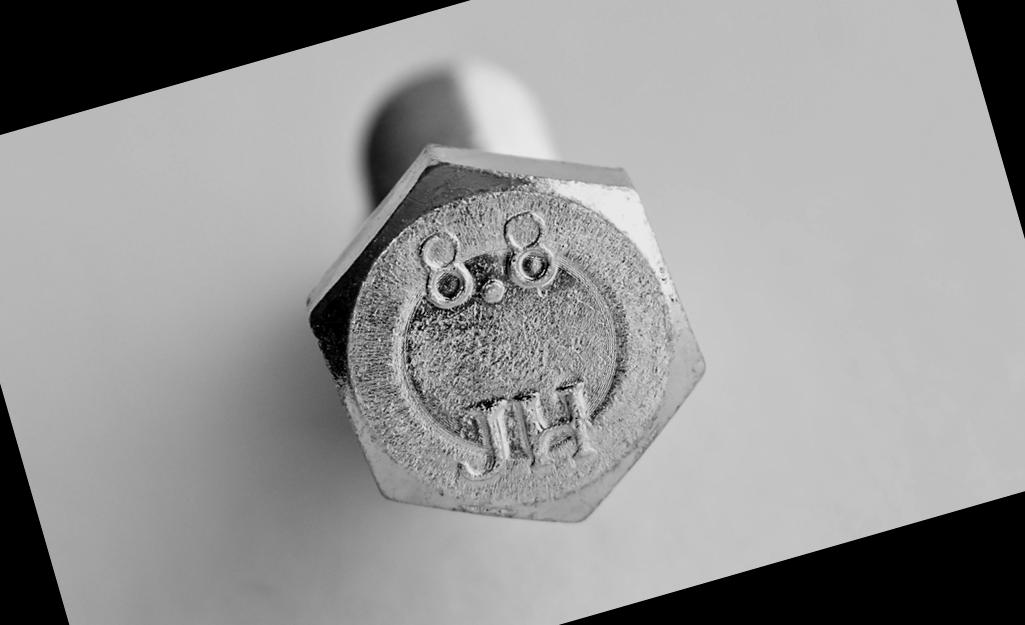hexagonal: (269, 88, 738, 580)
